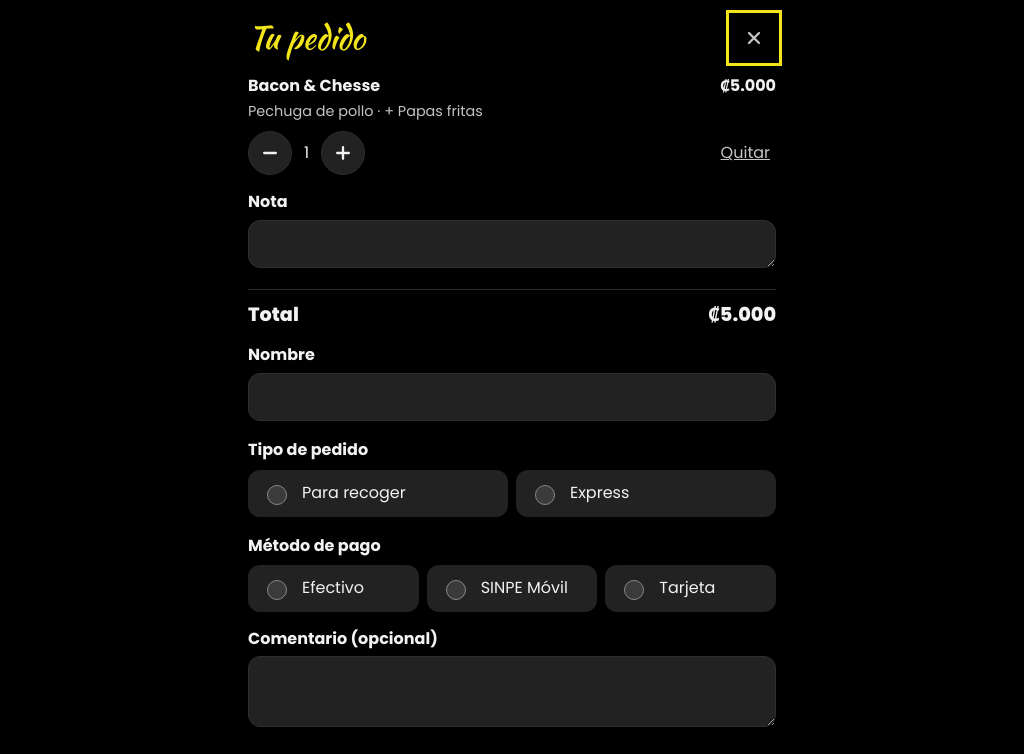
Scenario: OrderView › quitar el único platillo muestra el pedido vacío
Click the button with aria-label "Quitar Bacon & Chesse": (745, 153) [715,131,776,175]
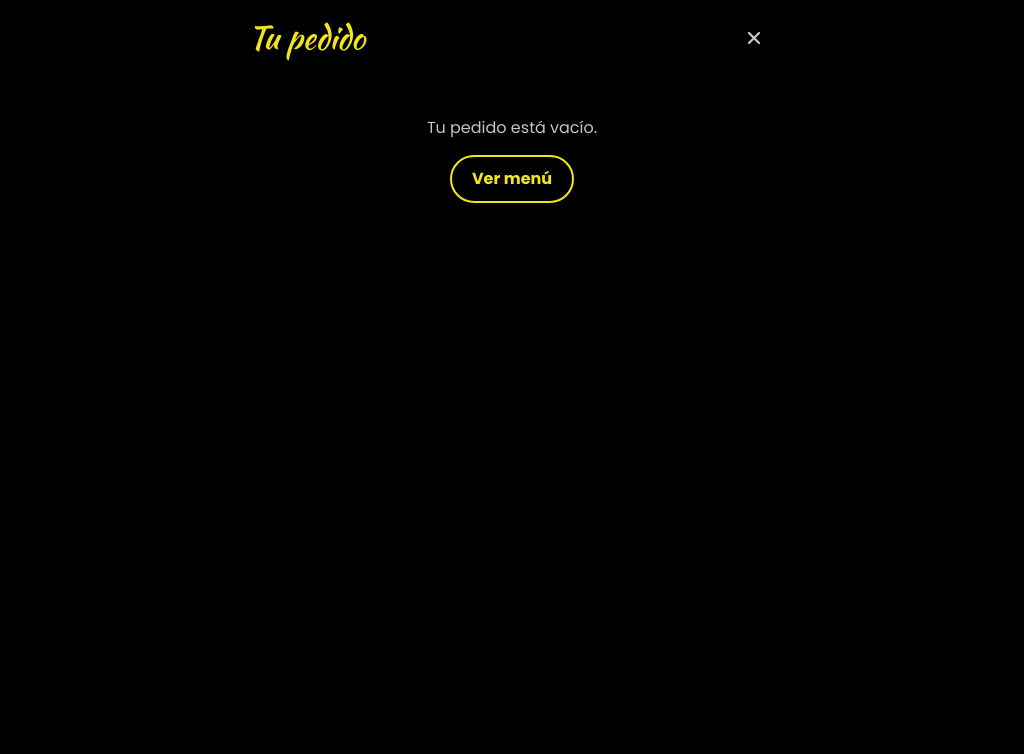
Result: the text "Tu pedido está vacío." is shown at [427,116,597,139]
